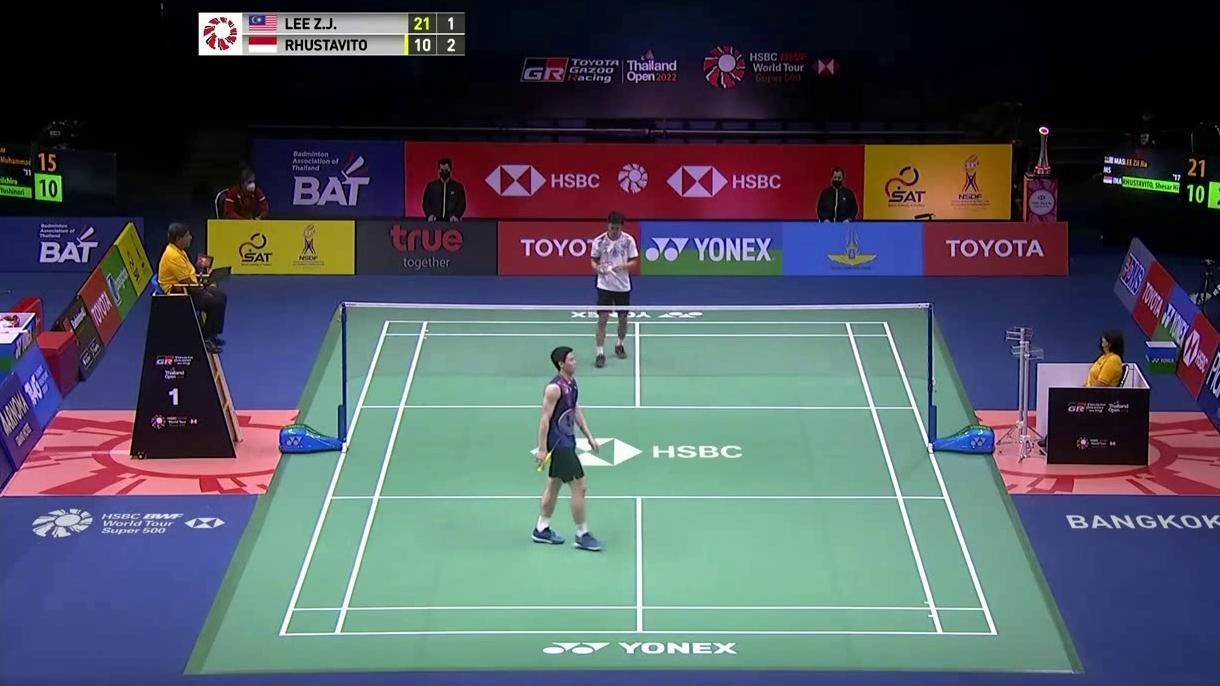racket: (538, 409, 582, 472)
